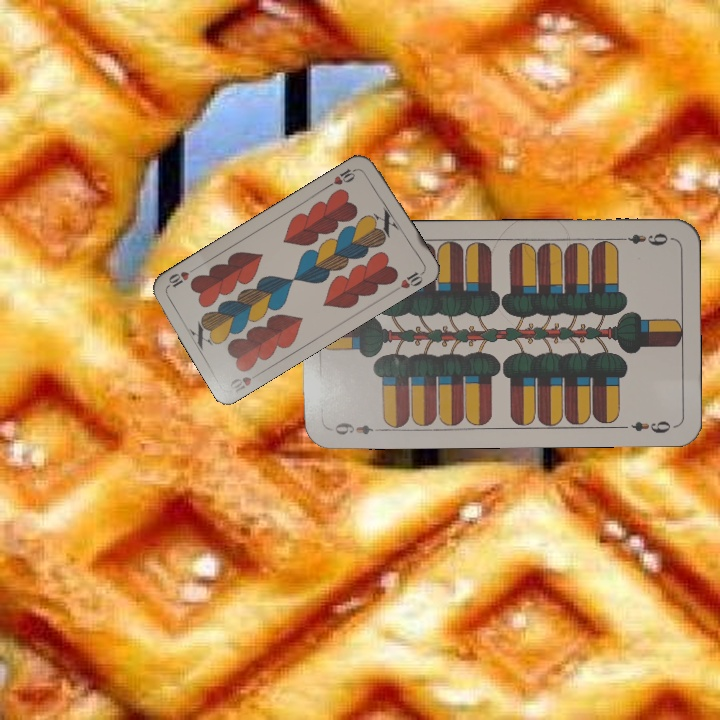E9: (615, 229, 674, 248), (330, 418, 385, 438)
H10: (226, 368, 265, 396), (324, 164, 361, 190)
